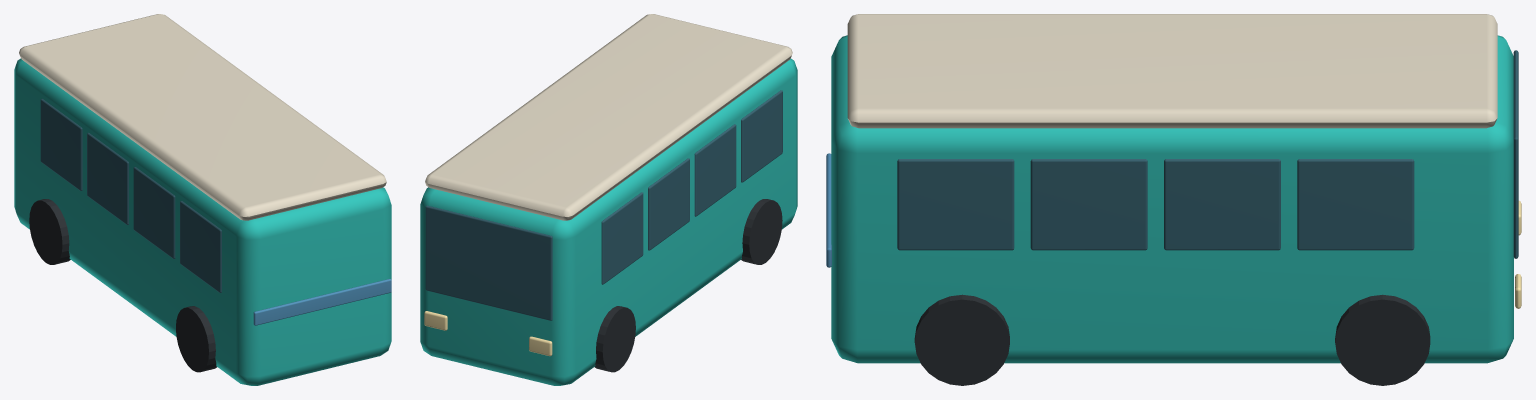
The model's file is Bus.fbx.
3 views of the same model, side by side, from view 1: azimuth 30°, elevation 25°; view 2: azimuth 150°, elevation 25°; view 3: azimuth 270°, elevation 25° (orthographic). The views are drawn at different scales.
Visible parts, largest first — view 1: Bus_Body, Bus_Roof, Bus_Window.001, Bus_Window.003, Bus_Window.002, Bus_Window, Bus_Wheel, Bus_Wheel.001, Bus_Stripe; view 2: Bus_Body, Bus_Roof, Bus_Windshield, Bus_Window.001, Bus_Window.003, Bus_Window, Bus_Window.002, Bus_Wheel, Bus_Wheel.001, Bus_Light.001, Bus_Light; view 3: Bus_Body, Bus_Roof, Bus_Window.004, Bus_Window.005, Bus_Window.007, Bus_Window.006, Bus_Wheel.003, Bus_Wheel.002, Bus_Windshield, Bus_Stripe.
Part boxes in pixels (bbox=[...]): Bus_Body: bbox=[14, 58, 391, 385]; Bus_Roof: bbox=[19, 14, 386, 220]; Bus_Window.001: bbox=[133, 167, 175, 258]; Bus_Window.003: bbox=[40, 99, 82, 190]; Bus_Window.002: bbox=[87, 132, 128, 224]; Bus_Window: bbox=[180, 201, 221, 292]; Bus_Wheel: bbox=[176, 306, 216, 372]; Bus_Wheel.001: bbox=[29, 199, 70, 264]; Bus_Stripe: bbox=[253, 279, 391, 325]; Bus_Body: bbox=[420, 58, 797, 385]; Bus_Roof: bbox=[425, 14, 792, 220]; Bus_Windshield: bbox=[425, 205, 552, 320]; Bus_Window.001: bbox=[694, 124, 736, 216]; Bus_Window.003: bbox=[601, 192, 643, 284]; Bus_Window: bbox=[741, 90, 782, 182]; Bus_Window.002: bbox=[648, 158, 689, 250]; Bus_Wheel: bbox=[741, 199, 782, 264]; Bus_Wheel.001: bbox=[594, 306, 635, 372]; Bus_Light.001: bbox=[424, 311, 447, 330]; Bus_Light: bbox=[529, 336, 552, 356]; Bus_Body: bbox=[831, 35, 1513, 363]; Bus_Roof: bbox=[847, 14, 1497, 128]; Bus_Window.004: bbox=[897, 159, 1014, 250]; Bus_Window.005: bbox=[1030, 159, 1147, 250]; Bus_Window.007: bbox=[1297, 159, 1414, 250]; Bus_Window.006: bbox=[1164, 159, 1280, 250]; Bus_Wheel.003: bbox=[1335, 294, 1430, 385]; Bus_Wheel.002: bbox=[914, 294, 1009, 385]; Bus_Windshield: bbox=[1513, 50, 1518, 258]; Bus_Stripe: bbox=[826, 153, 831, 267].
Size of the model in its own units: 256 by 271 by 642.
